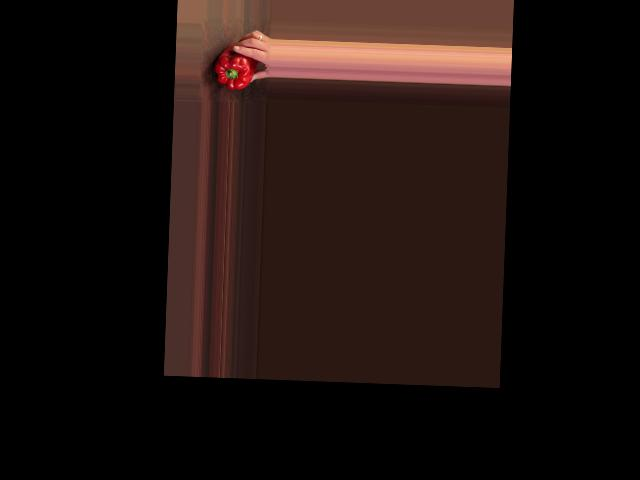bell_pepper: (213, 46, 256, 91)
